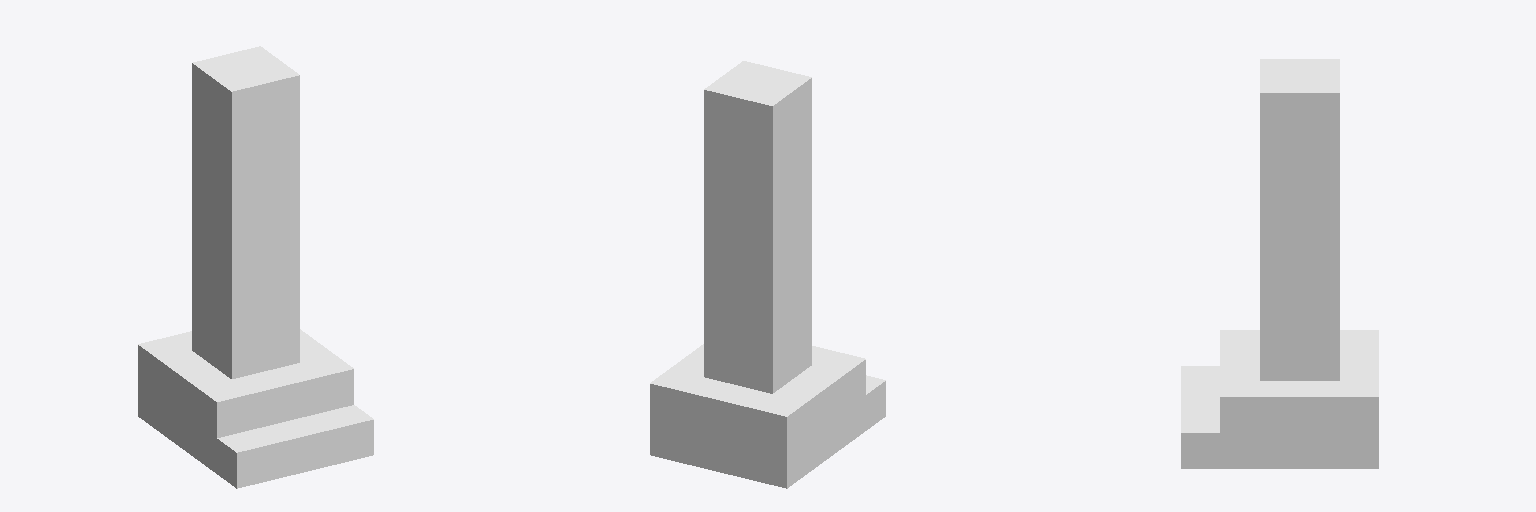
3 views of the same model, side by side, from view 1: azimuth 30°, elevation 25°; view 2: azimuth 150°, elevation 25°; view 3: azimuth 270°, elevation 25° (orthographic).
Parts seen in each view (by area): view 1: unnamed_object1; view 2: unnamed_object1; view 3: unnamed_object1.
Boxes of the visible parts, box(x1,y1,x2,y2) form: unnamed_object1: box(138, 46, 373, 488); unnamed_object1: box(650, 61, 885, 488); unnamed_object1: box(1181, 59, 1378, 468).
Bounding box in the file's own units: 0.4 × 1 × 0.5.